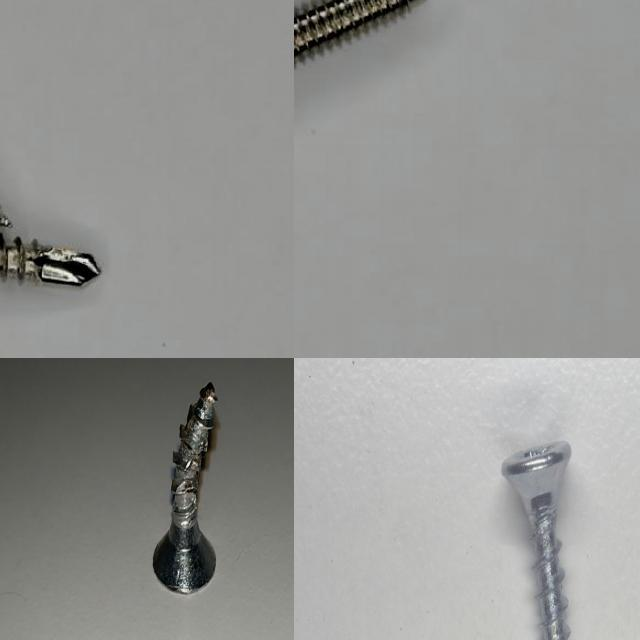Screw: (502, 440, 571, 640), (153, 381, 217, 593), (0, 233, 101, 287)
